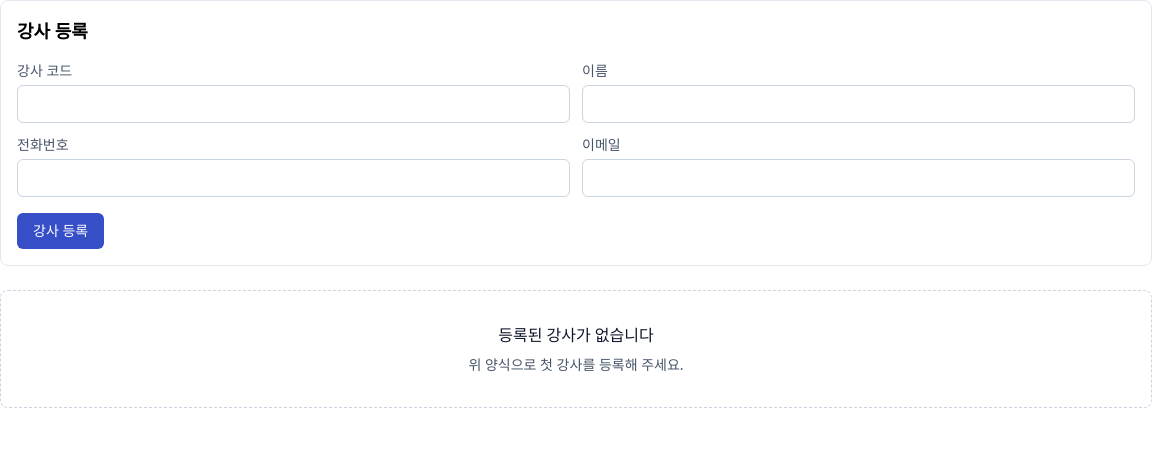
Test case: TeachersPanel › shows create failure without clearing user input
The width and height of the screenshot is (1152, 457).
In the field with test id "teacher-create-code": {"x": 294, "y": 104} [17, 85, 570, 123], type "bad"
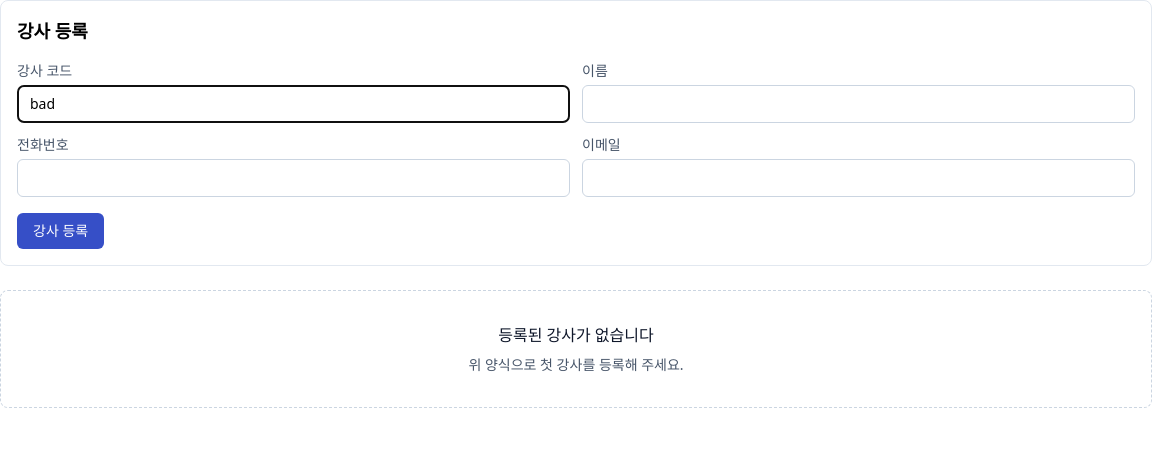
In the field with test id "teacher-create-name": {"x": 858, "y": 104} [582, 85, 1135, 123], type "Bad Teacher"
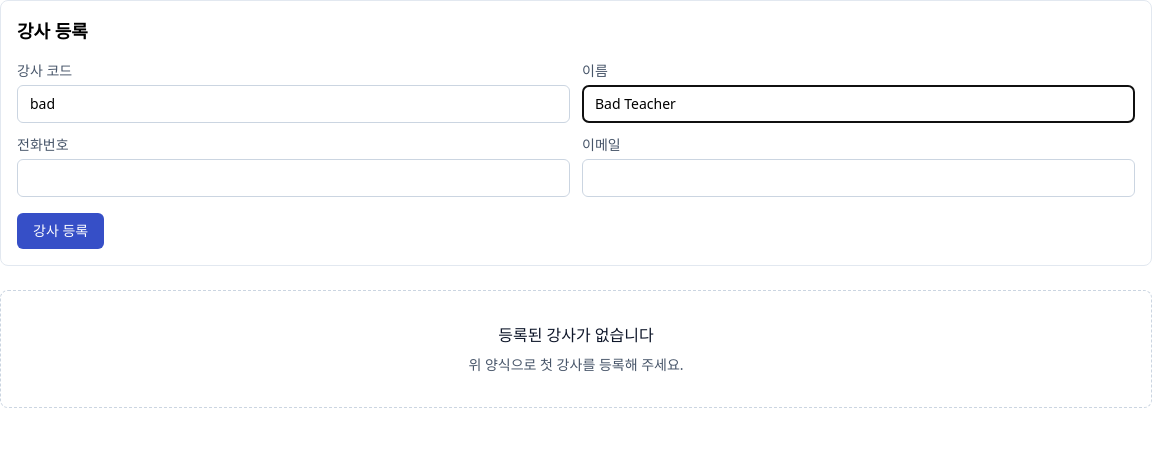
Click the button with test id "teacher-create-submit": {"x": 61, "y": 231} [17, 213, 104, 249]
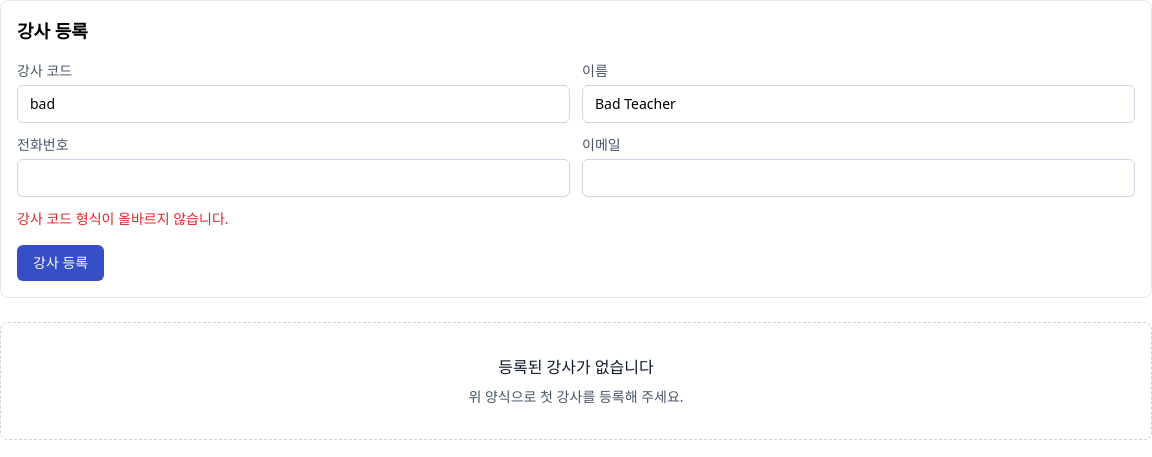
expect the message with test id "teacher-create-error" shows "코드": met, box [17, 209, 228, 228]
